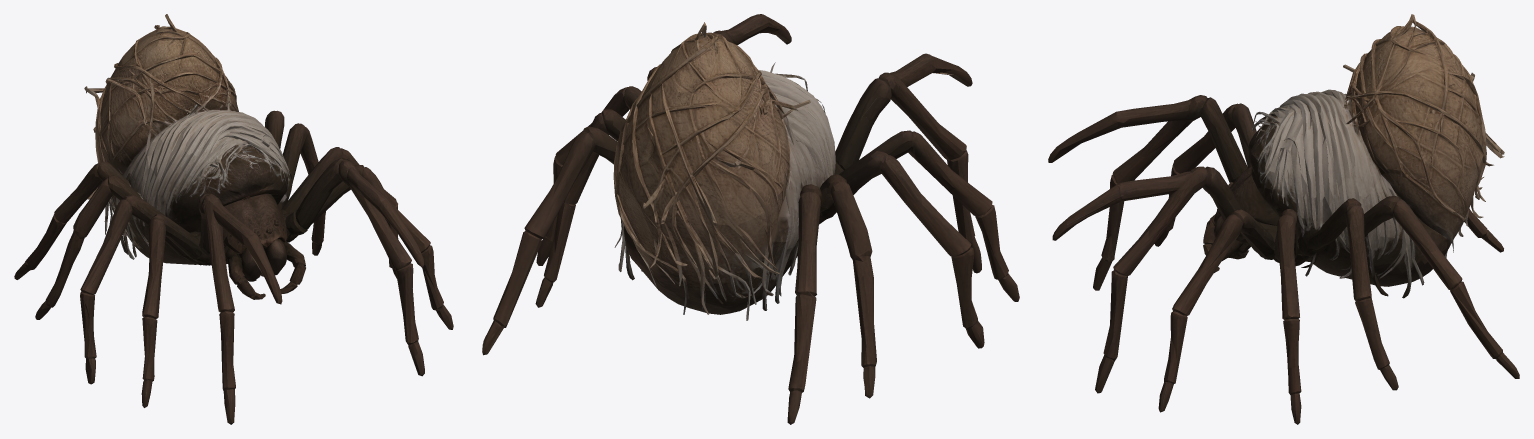
The model's file is spider_static.glb.
3 renders of one model, left to right at view 1: azimuth 30°, elevation 25°; view 2: azimuth 150°, elevation 25°; view 3: azimuth 270°, elevation 25°, orthographic. The views are drawn at different scales.
Parts seen in each view (by area): view 1: output_unwrapped; view 2: output_unwrapped; view 3: output_unwrapped.
Part boxes in pixels (<box>): output_unwrapped: <box>14,14,453,424</box>; output_unwrapped: <box>482,14,1019,424</box>; output_unwrapped: <box>1048,14,1519,424</box>.
Size of the model in its own units: 1.84 by 1.49 by 2.
Materials: 1 (1 with a texture image).
